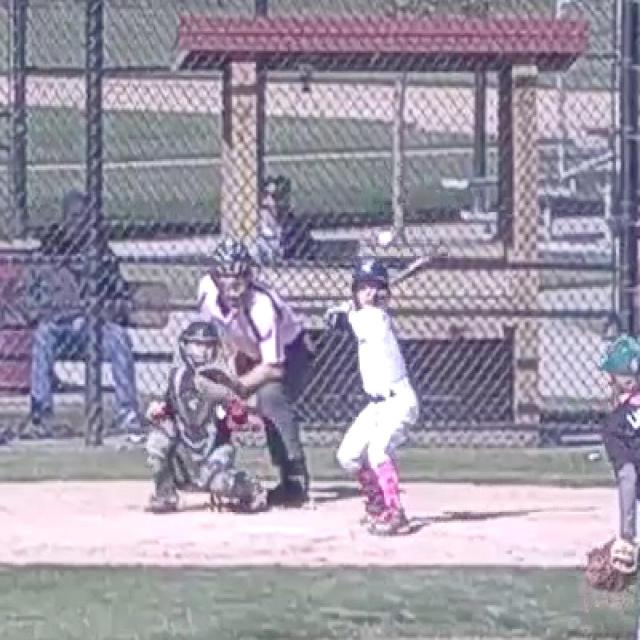baseball: (377, 232, 393, 247)
